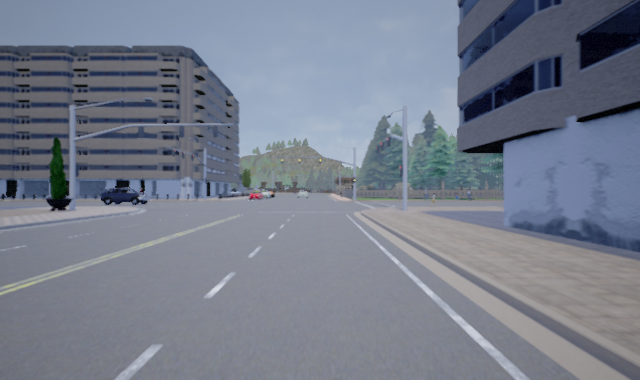pedestrian: (428, 191, 439, 206)
vehicle: (100, 186, 148, 205), (248, 190, 262, 200)
